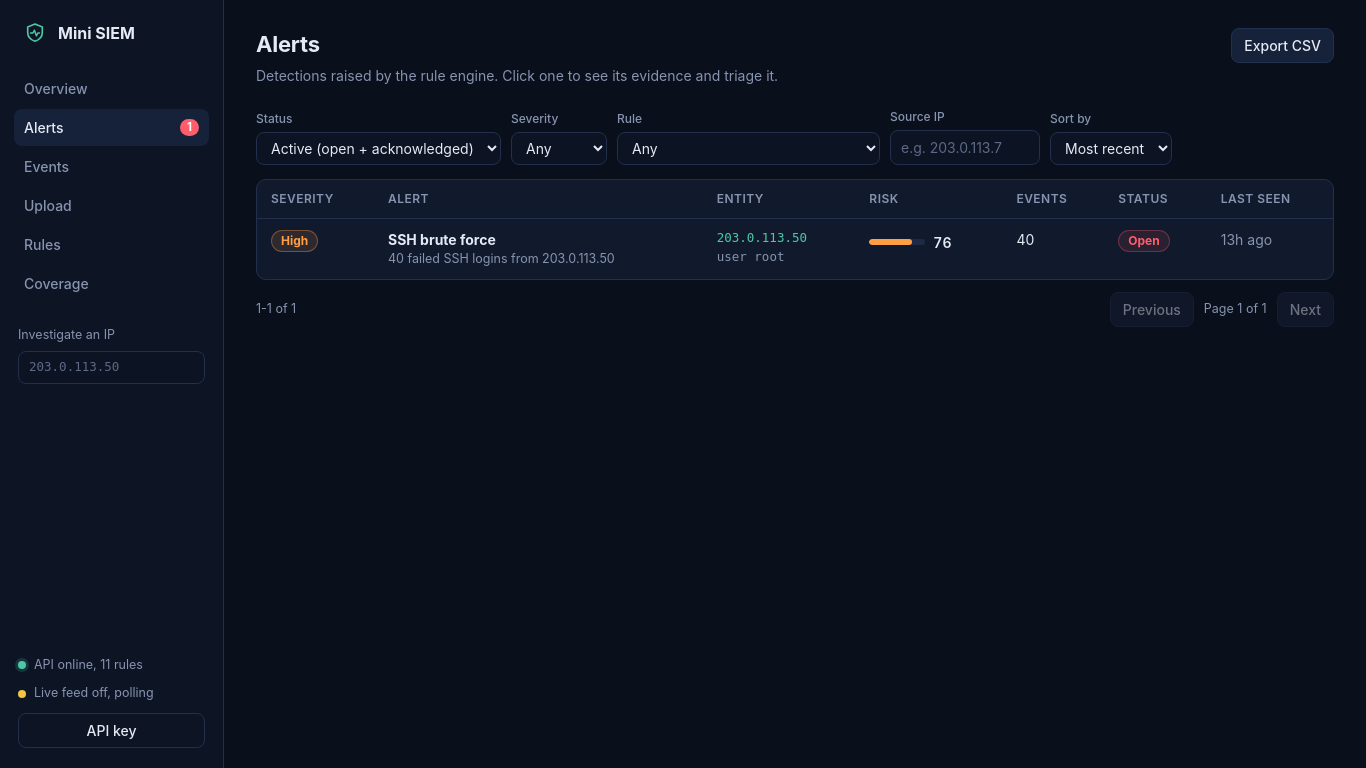
Test case: CSV export › warns when the server cut the export short
This screenshot has width=1366, height=768.
Click the button "Export CSV".
click(1283, 46)  # box [1231,28,1334,63]
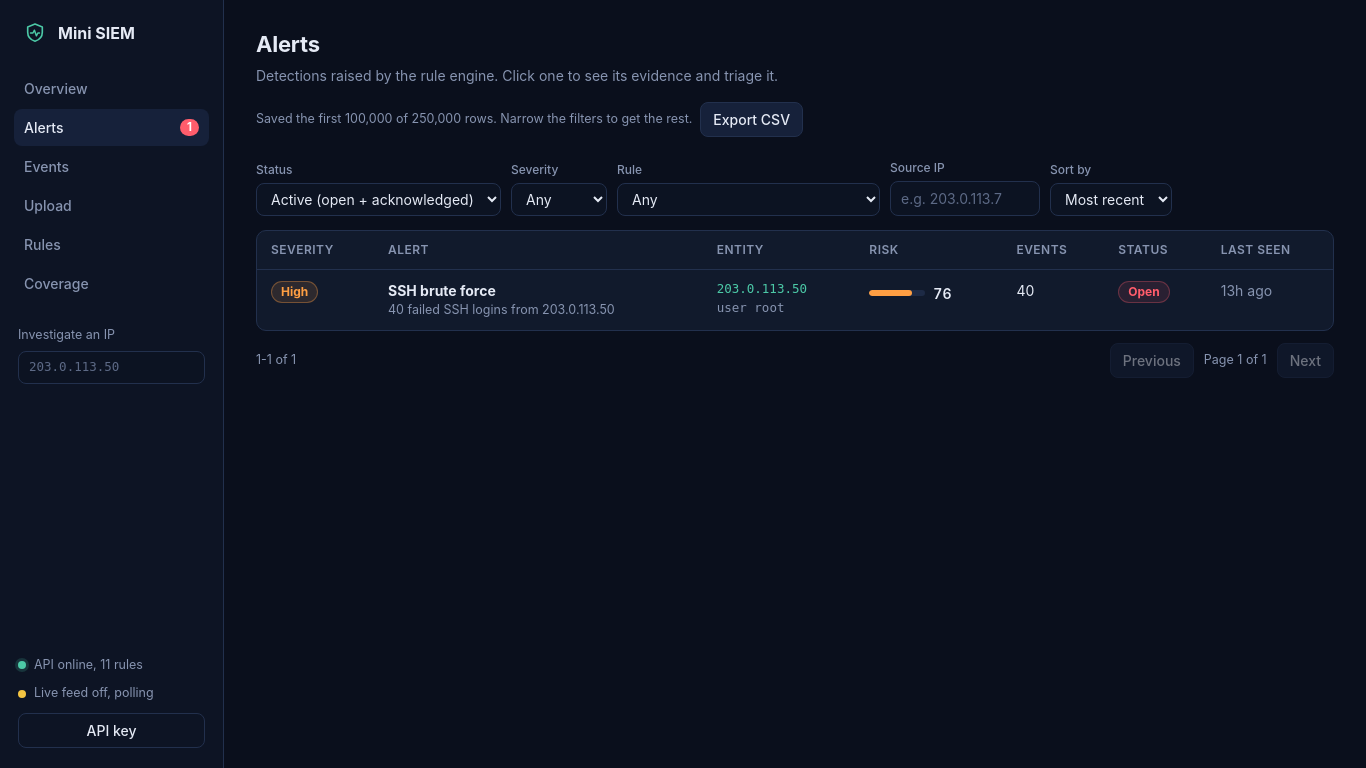
Expected: the text "Saved the first 100,000 of 250,000 rows. Narrow the filters to get the rest." is shown, [256,110,692,129]
